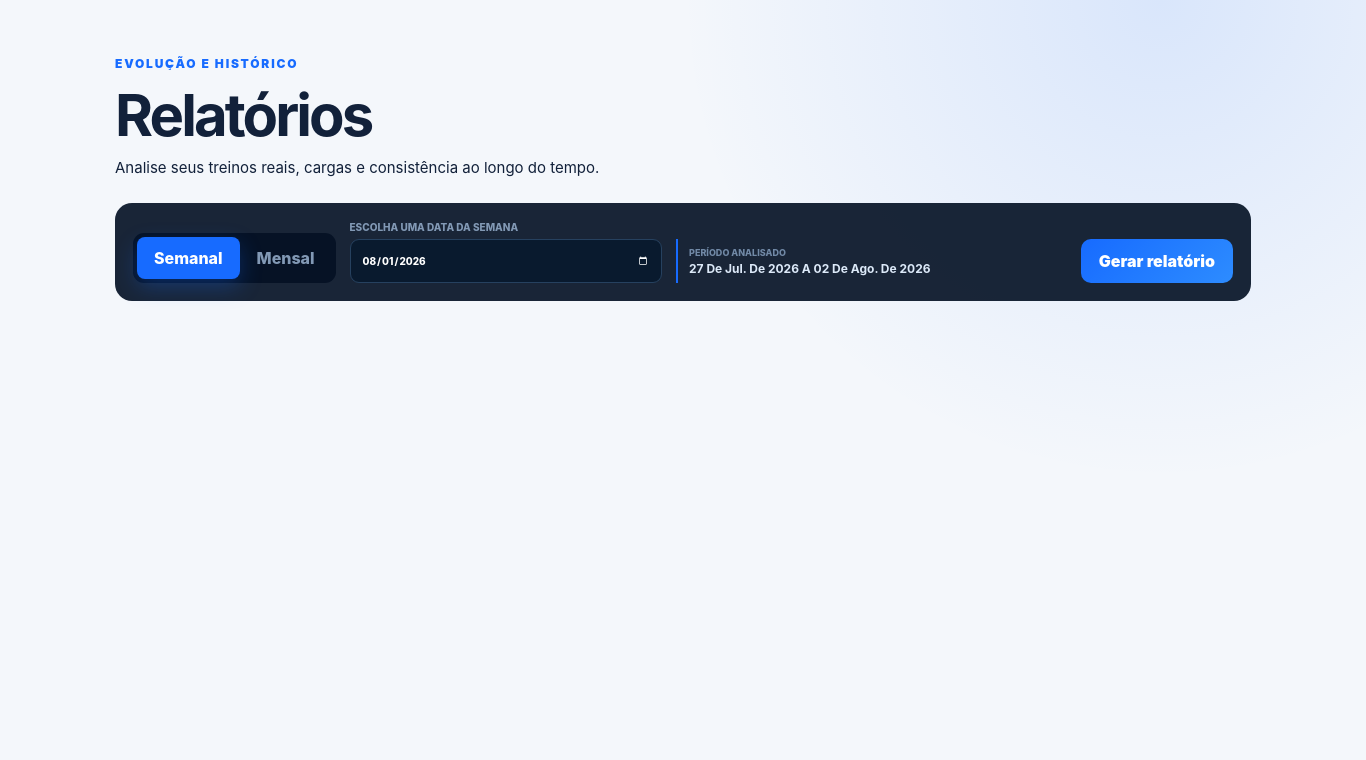
Test: página de relatórios › mostra treinos pendentes com acesso para continuar e finalizar
This screenshot has width=1366, height=760.
Click the button "Gerar relatório": coordinates (1157, 261) [1081,239,1233,283]
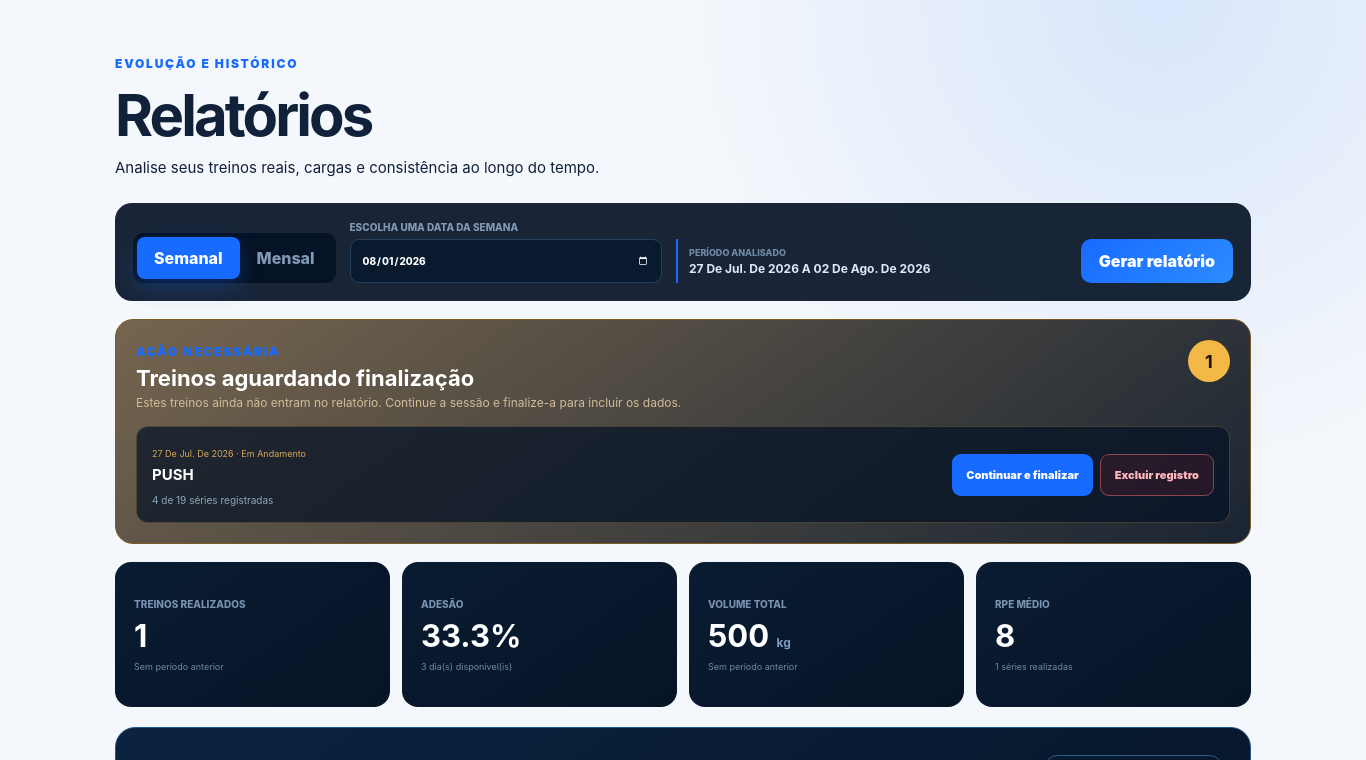
Now the heading "Treinos aguardando finalização" is shown, box [136,365,474,391]
Now the text "4 de 19 séries registradas" is shown, box [152,494,273,506]
